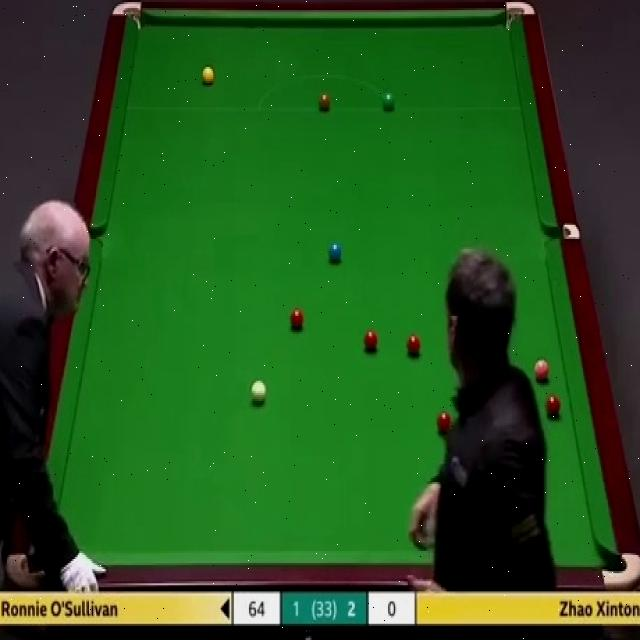blue-ball: (329, 238, 342, 265)
brown-ball: (318, 92, 332, 110)
green-ball: (381, 90, 396, 112)
pink-ball: (534, 360, 552, 382)
red-ball: (435, 412, 453, 438), (405, 334, 422, 357), (546, 396, 562, 419), (364, 328, 378, 354), (290, 306, 304, 328)
white-ball: (250, 379, 266, 403)
yellow-ball: (202, 67, 215, 86)
